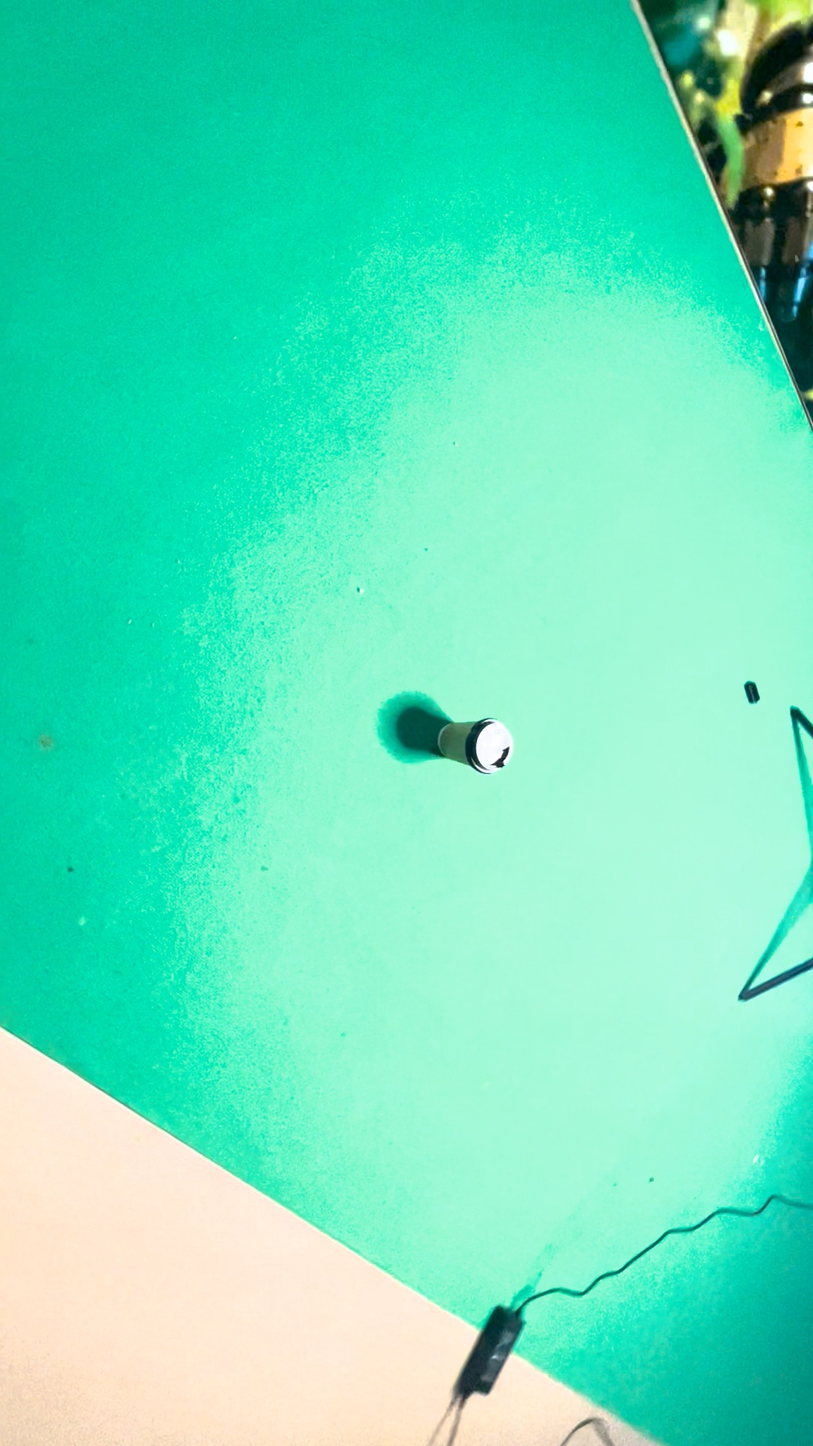cup: (437, 468, 523, 885)
